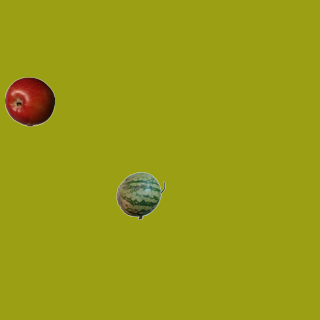Apple Braeburn: (4, 76, 54, 126)
Watermelon: (115, 170, 165, 220)
